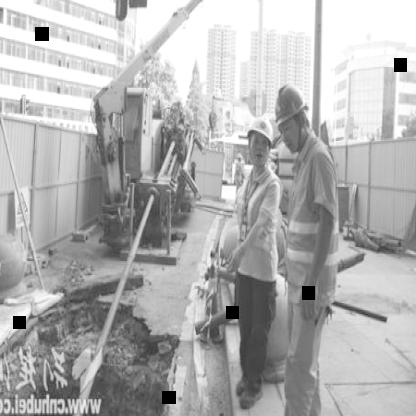helmet: (272, 75, 310, 151), (240, 105, 277, 177)
